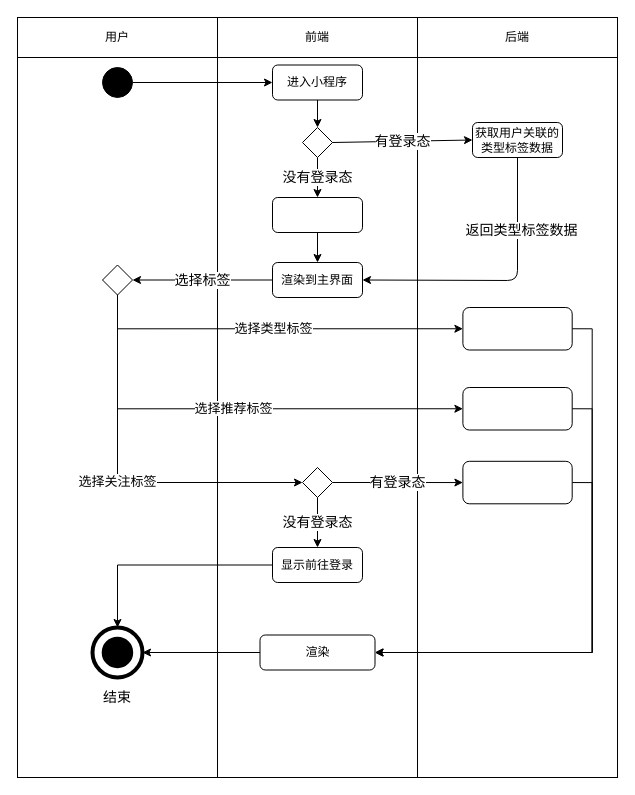
This 635x795 diagram has some shape labels left out. Each missing label, with the centre of its shape:
使用默认类型标签列表数据: (317,214)
获取用户关注用户的文章和话题推送: (517,482)
获取用户对应系统推荐的文章和话题: (517,408)
返回特定类型的文章和话题: (517,328)
